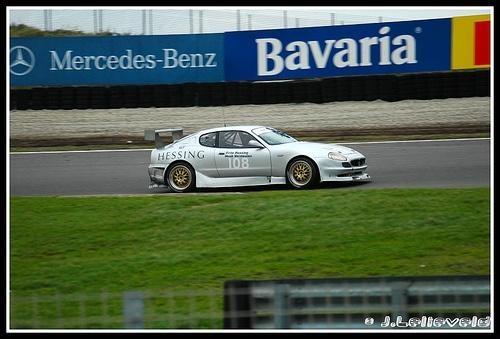car: (148, 127, 370, 188)
